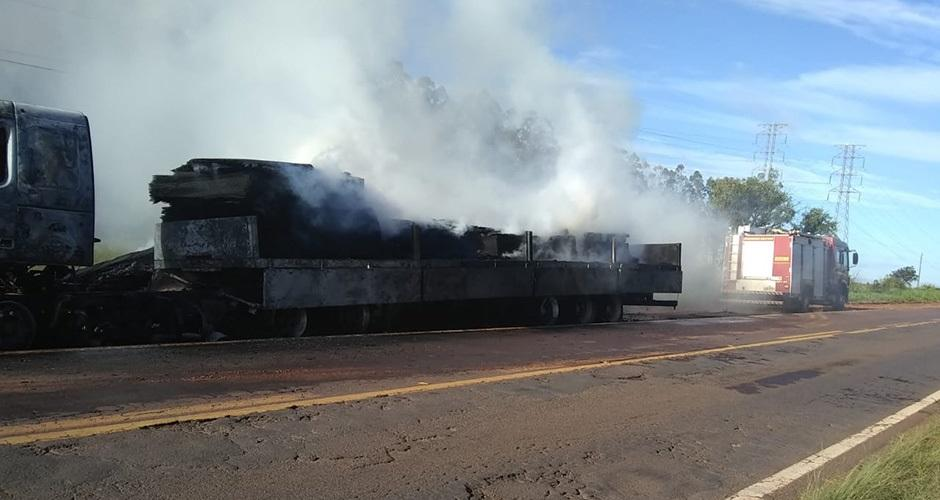smoke: (366, 158, 606, 228), (620, 199, 685, 235)
